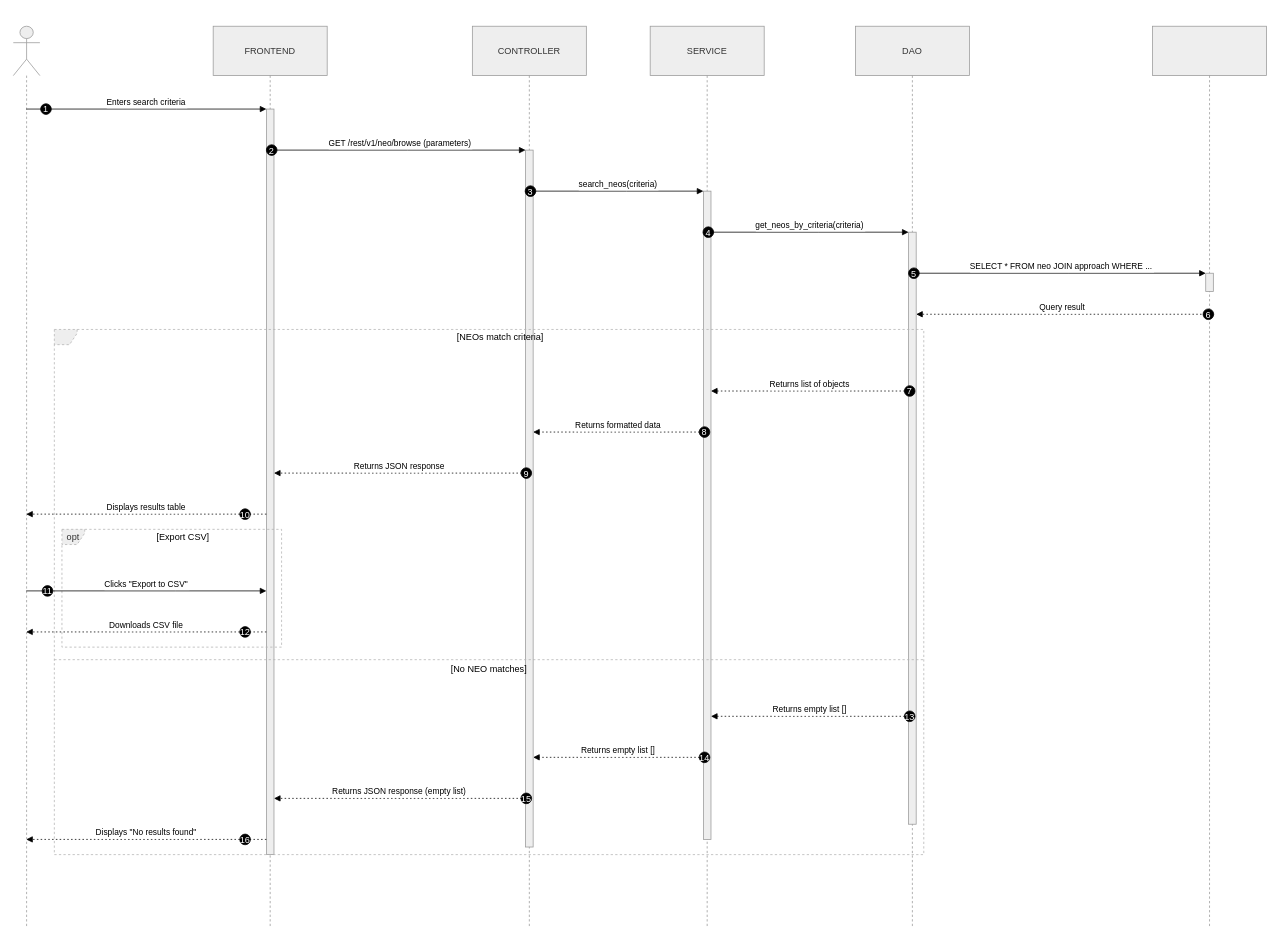
The diagram is 1280 pixels wide and 940 high, and some of its shapes have lost their labels. Each missing label, with the box of its shape:
alt: (54, 329, 924, 855)
DATABASE: (1152, 25, 1267, 927)
User: (13, 25, 40, 927)
